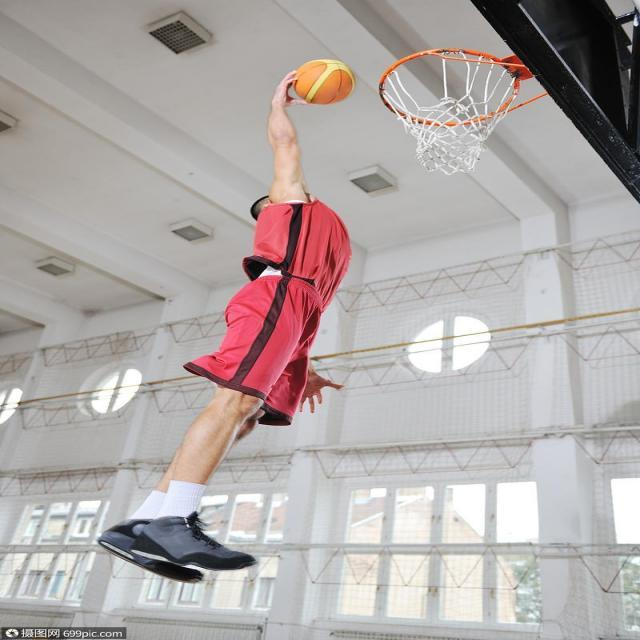rim: (287, 59, 356, 105)
